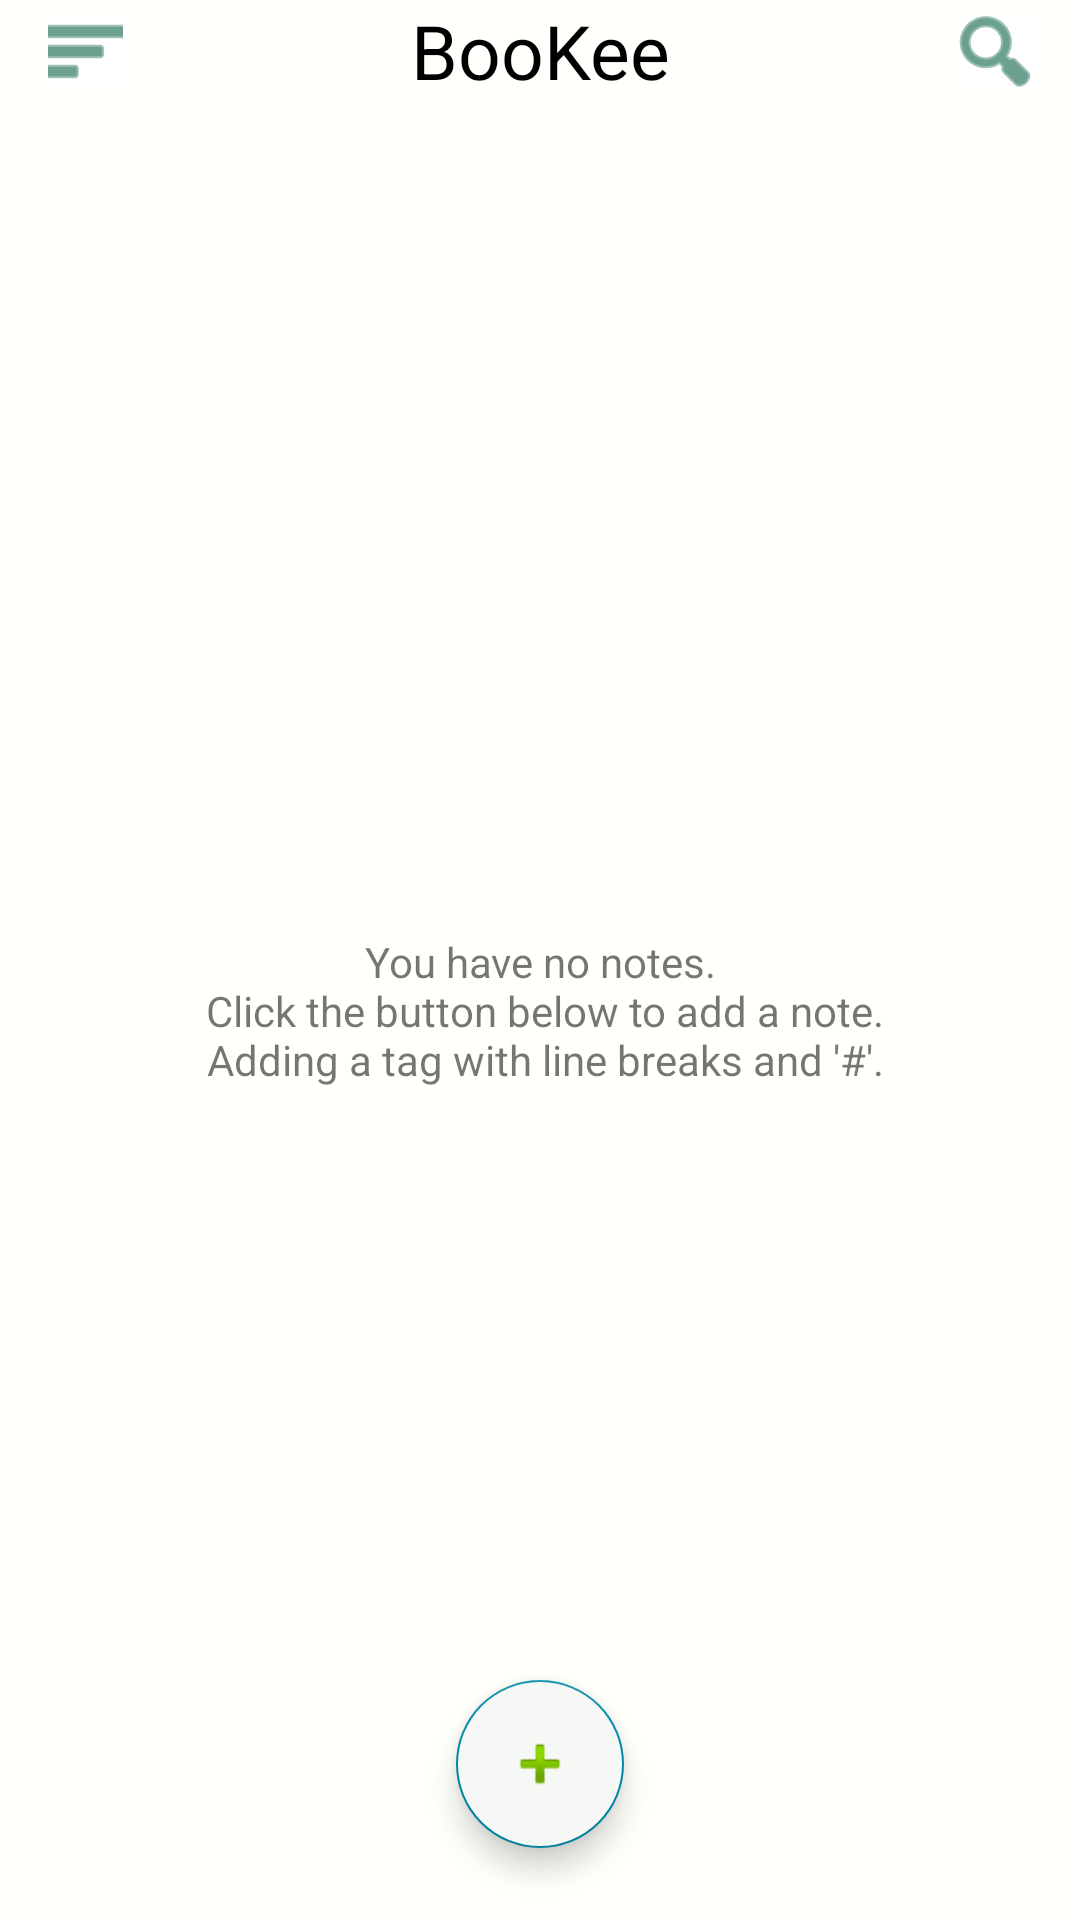

Named icons in this screenshot (1080 x 1920) and their bounding boxes, box=[x1, y1, x2, y2]:
search: box=[959, 16, 1031, 87]
sort by size: box=[48, 25, 123, 78]
